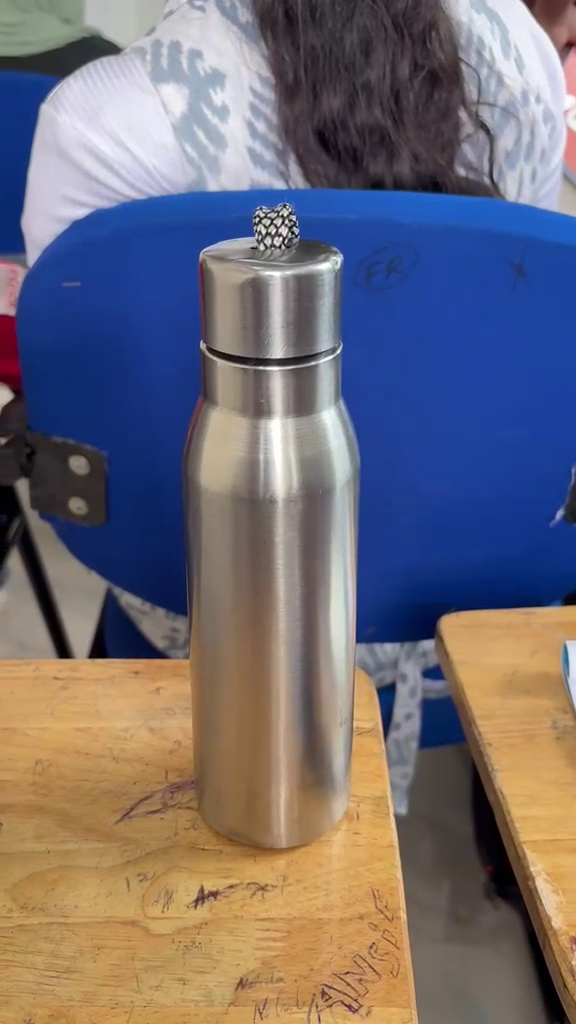Bottle: (182, 222, 373, 850)
